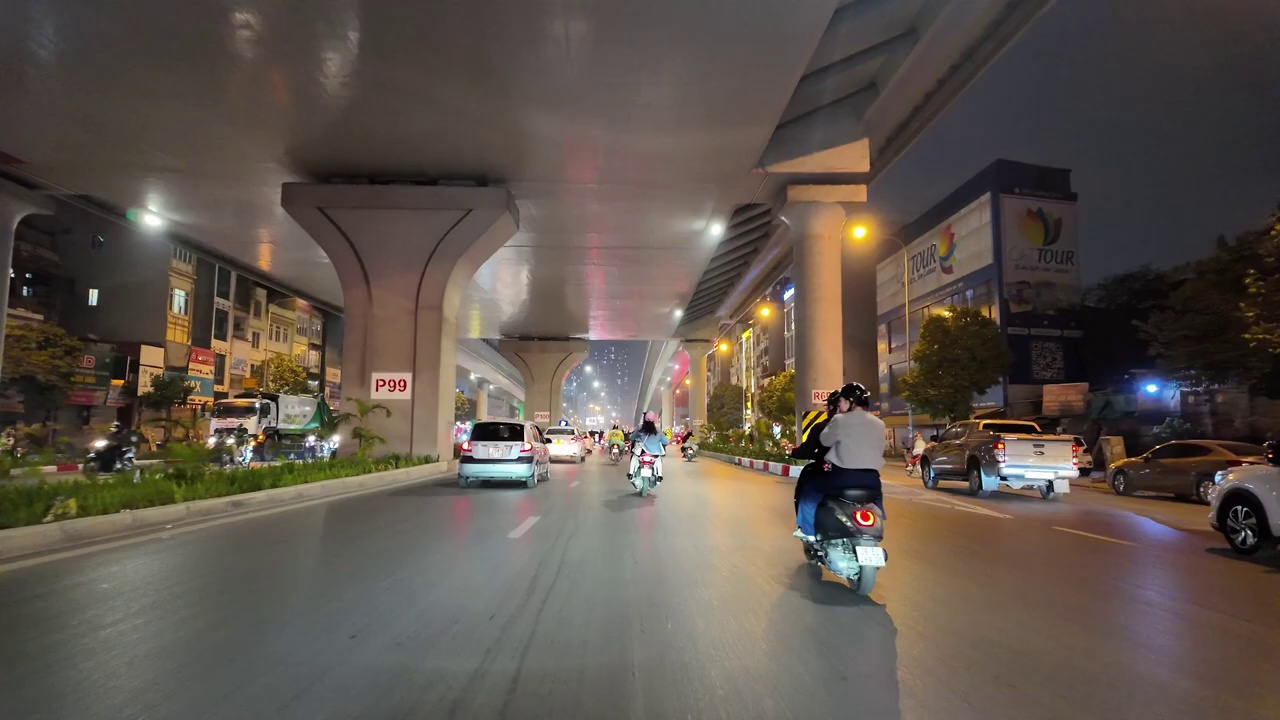acesa: (844, 219, 876, 249), (136, 199, 164, 233), (754, 300, 778, 326), (703, 219, 725, 244), (258, 242, 274, 267)
